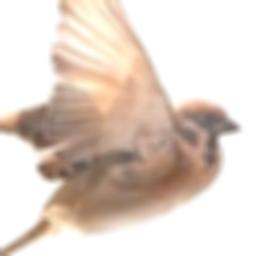Sparrow: (0, 0, 240, 256)
